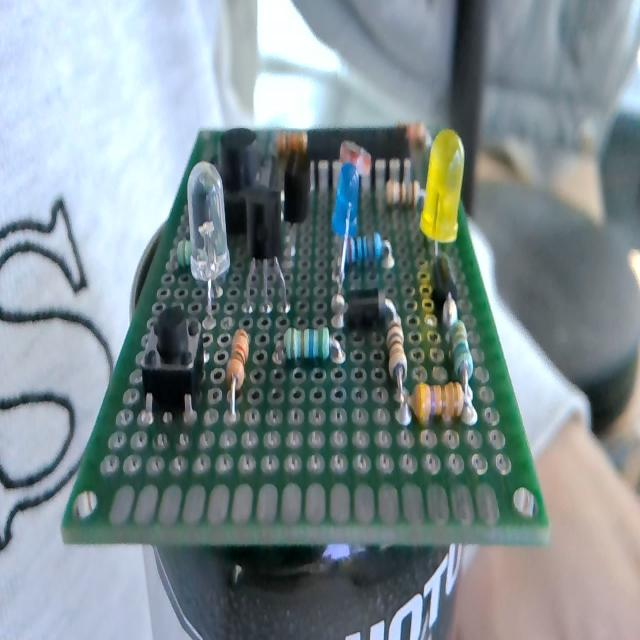diode: (326, 287, 404, 325), (428, 247, 462, 328)
led: (177, 161, 229, 323), (422, 125, 469, 262), (330, 158, 362, 284)
resistor: (268, 324, 347, 372), (444, 323, 482, 422), (222, 316, 252, 431), (406, 378, 468, 426), (385, 316, 413, 418)
switch: (134, 312, 204, 432)
transistor: (238, 187, 294, 312)
